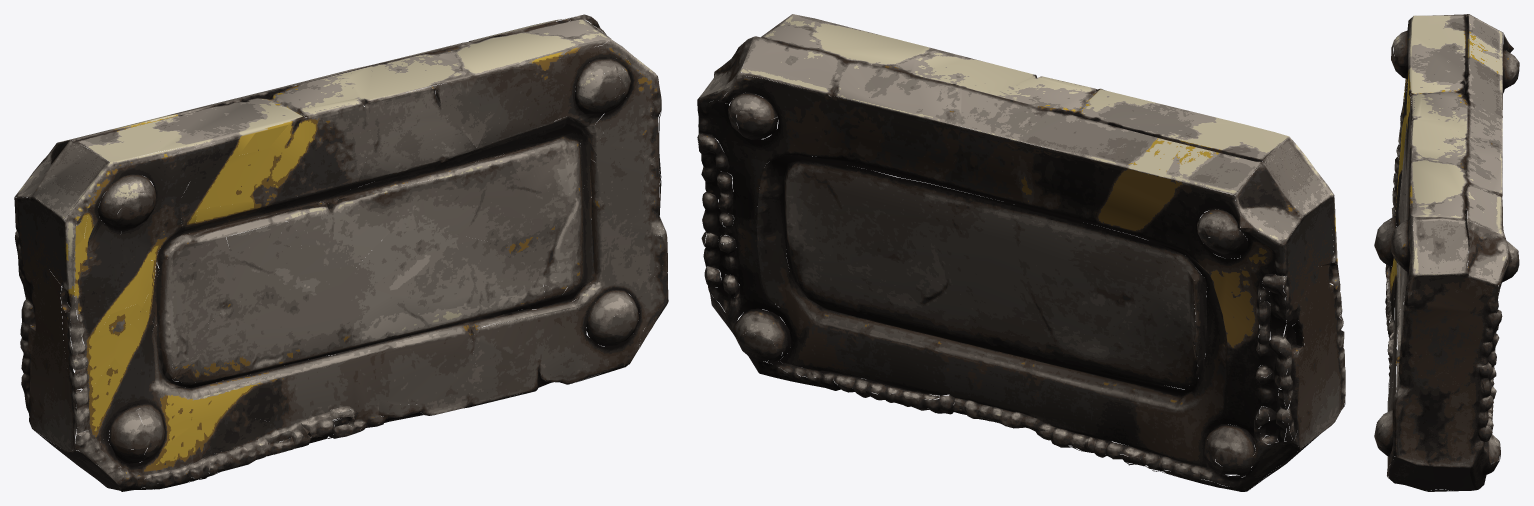
File: pl_name.glb
3 renders of one model, left to right at view 1: azimuth 30°, elevation 25°; view 2: azimuth 150°, elevation 25°; view 3: azimuth 270°, elevation 25°, orthographic. The views are drawn at different scales.
Parts seen in each view (by area): view 1: pl_name; view 2: pl_name; view 3: pl_name.
Boxes of the visible parts, x1,y1,x2,y2 form: pl_name: (14,14,668,491); pl_name: (697,14,1345,491); pl_name: (1374,14,1519,491).
Bounding box in the file's own units: 0.2 × 0.1079 × 0.0513.
Materials: 1 (1 with a texture image).
